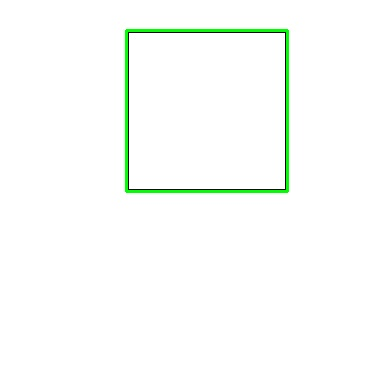line_segment: (125, 29, 289, 193)
